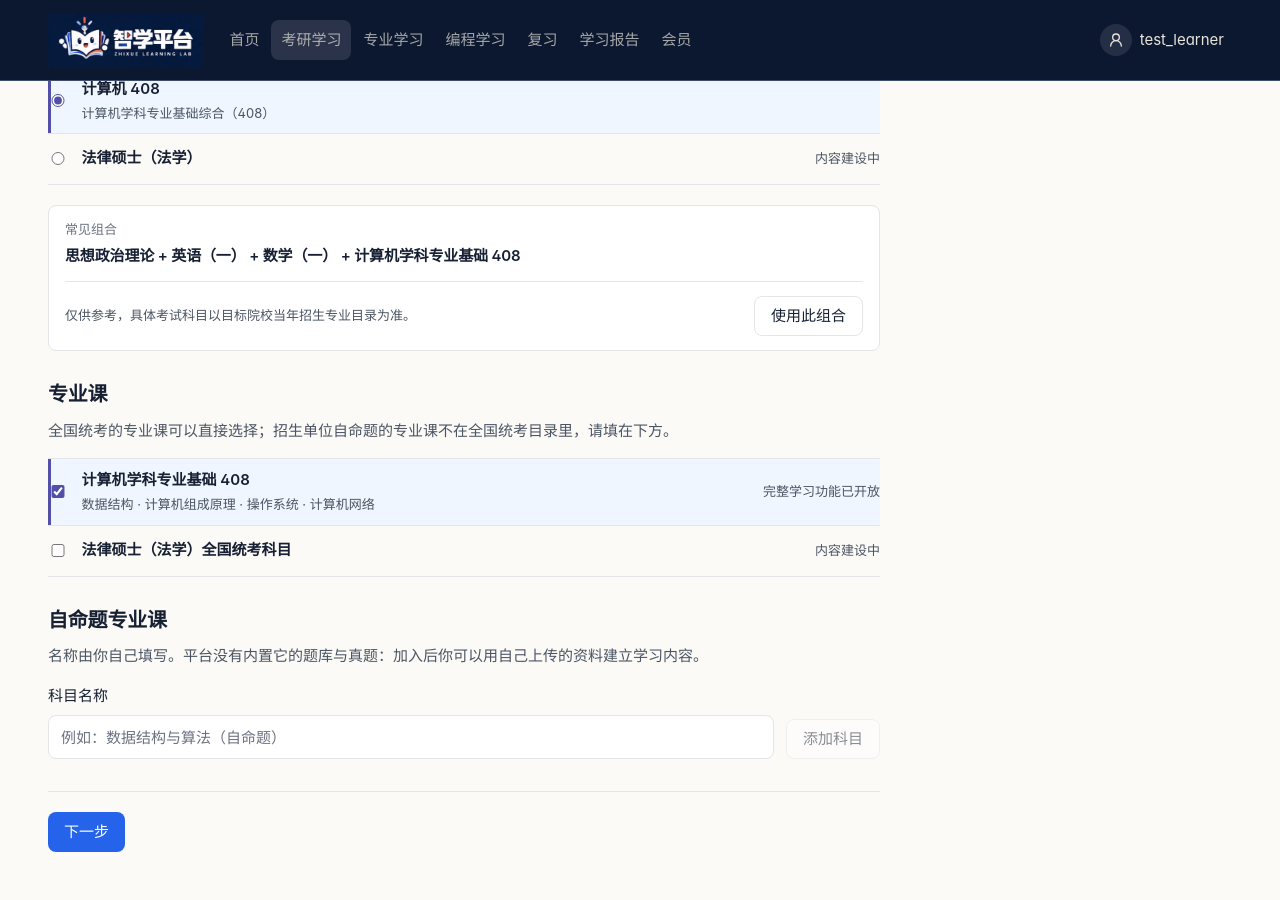
Test: 设置考试方案 › shows an undecided English paper as undecided when the screen is opened again
(page scrolled)
Click the button "下一步": (86, 832) [48,812,125,852]
(page scrolled)
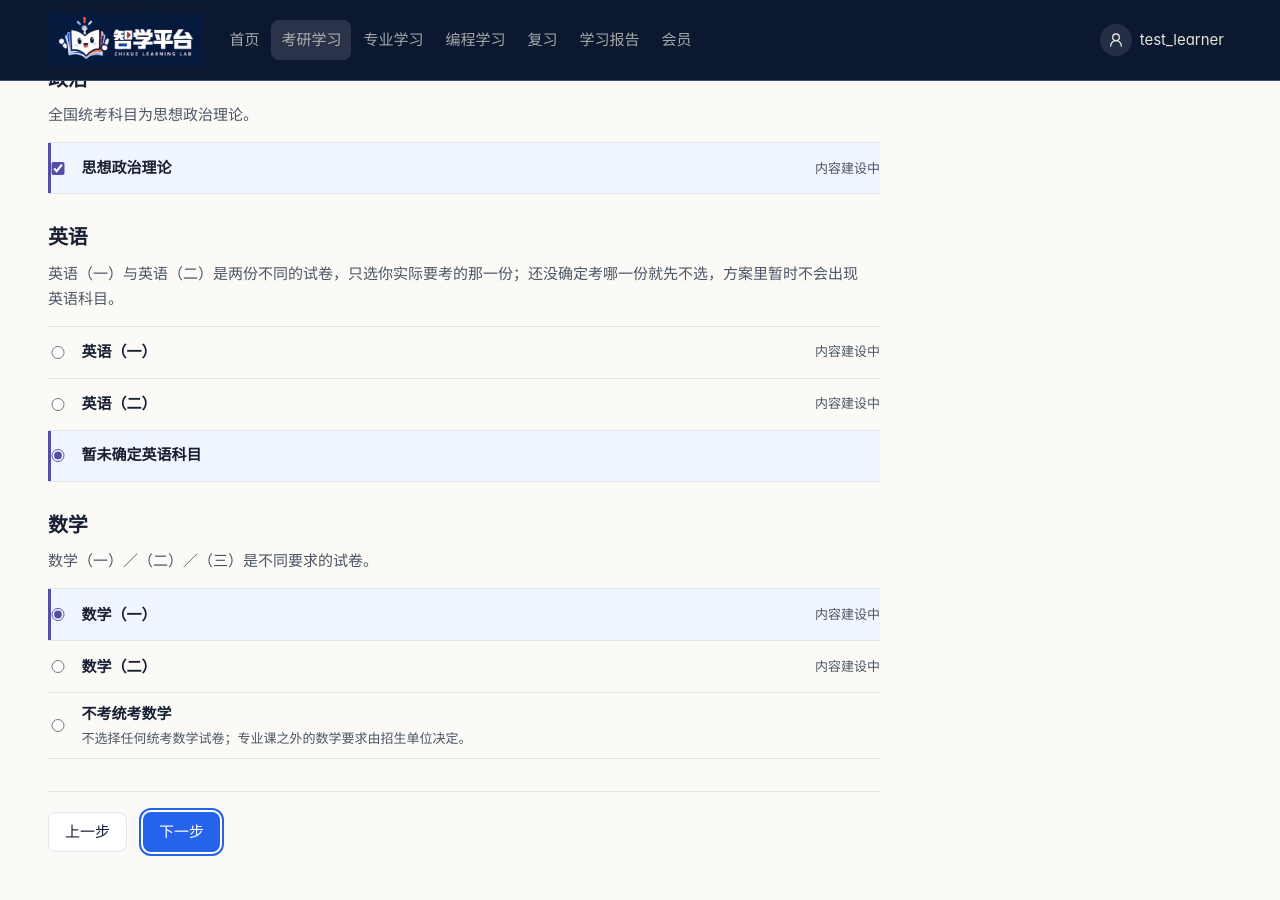
Expected: the radio button labelled "暂未确定英语科目" is checked, [48,449,68,462]
Expected: the radio button labelled "英语（一） 内容建设中" is not checked, [48,346,68,359]
Expected: the radio button labelled "英语（二） 内容建设中" is not checked, [48,398,68,411]
